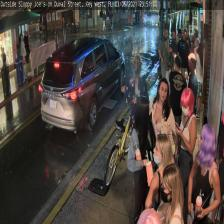person: (128, 96, 156, 222), (187, 123, 221, 223), (149, 77, 177, 198), (174, 87, 196, 218), (145, 134, 175, 224), (124, 55, 149, 162), (156, 164, 184, 224)
